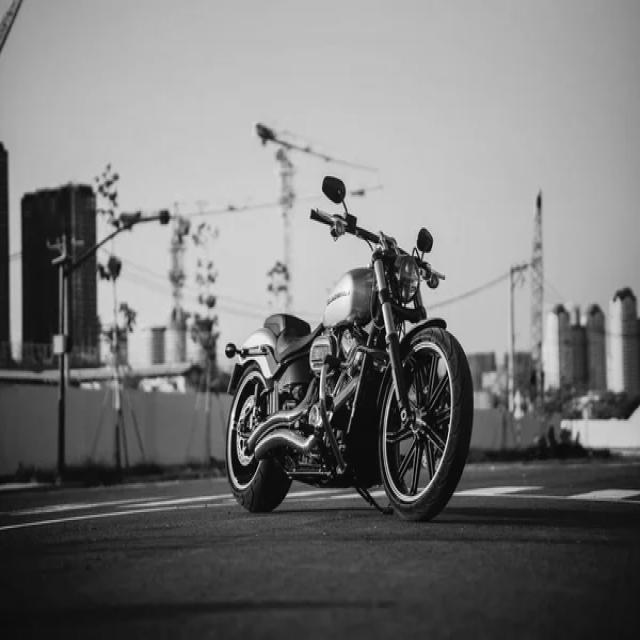Motorcycle: (225, 212, 474, 521)
